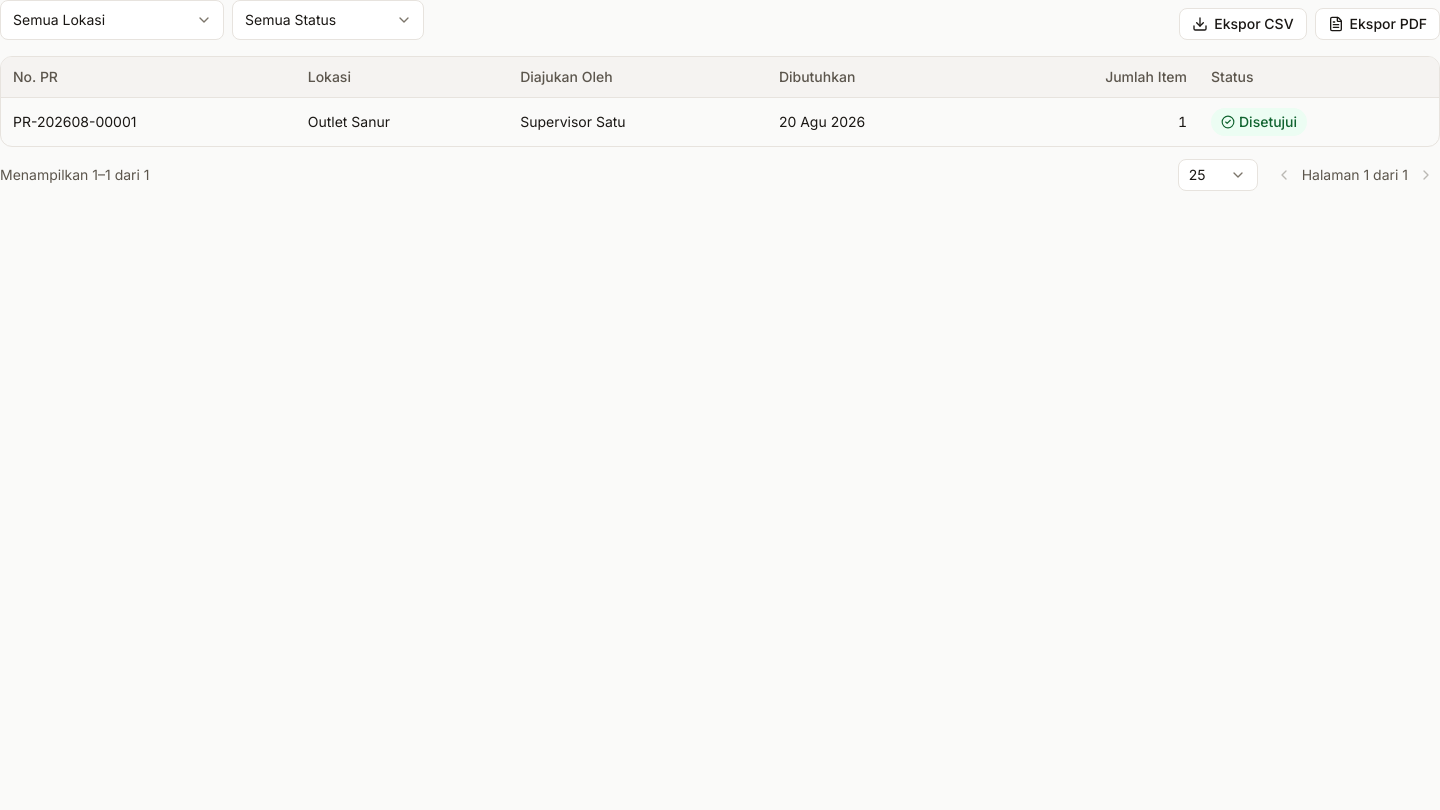
PurchaseRequestsPanel — F-PUR-01 status ladder › renders the approval chain timeline when the PR detail carries one, with currentStep null meaning the chain is complete
The width and height of the screenshot is (1440, 810).
Click the text "PR-202608-00001" at (75, 122), box 1,98 -> 296,146
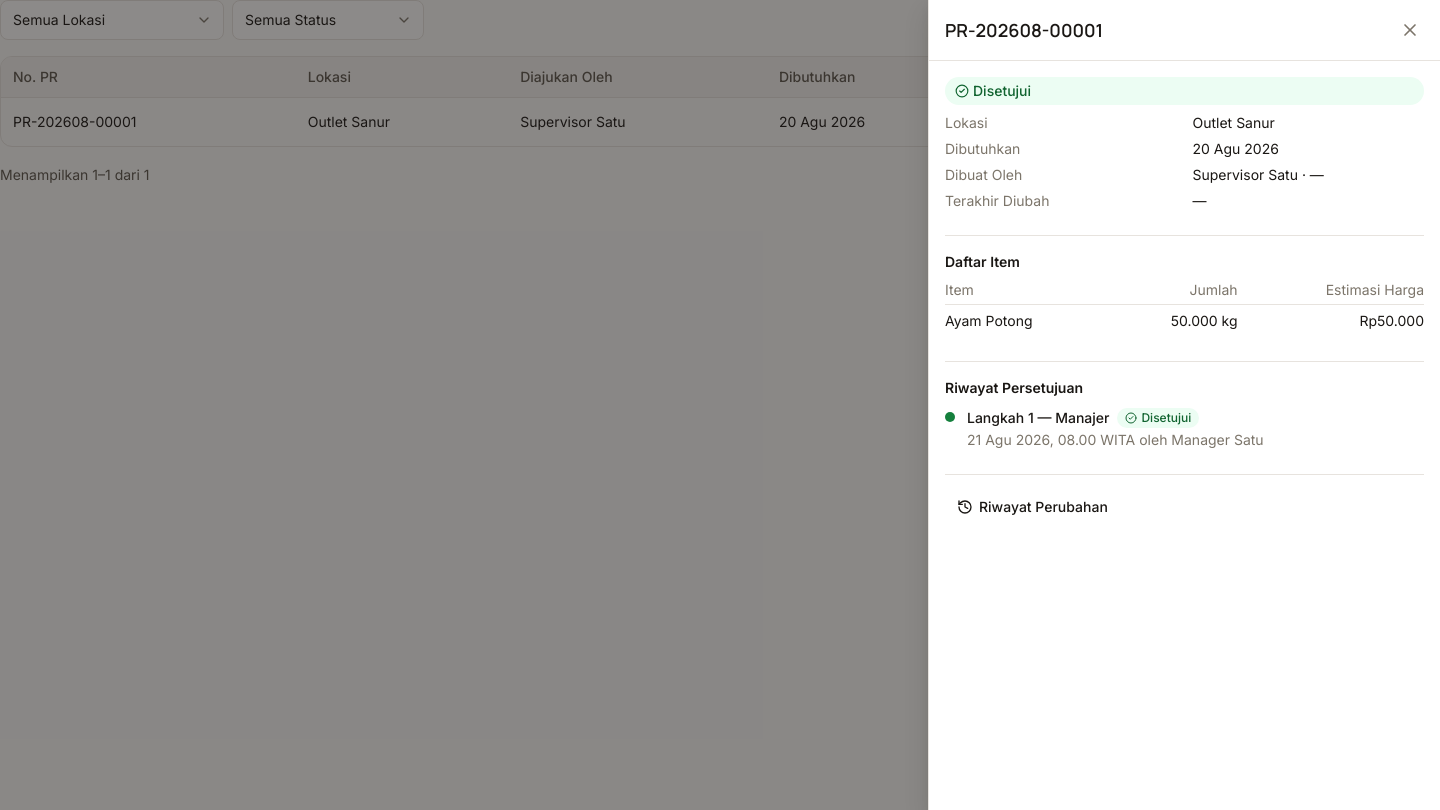
expect the heading "Riwayat Persetujuan" is shown: met, box 945,379 -> 1083,396
expect the text "Manager Satu" is shown: met, box 1135,431 -> 1264,448
